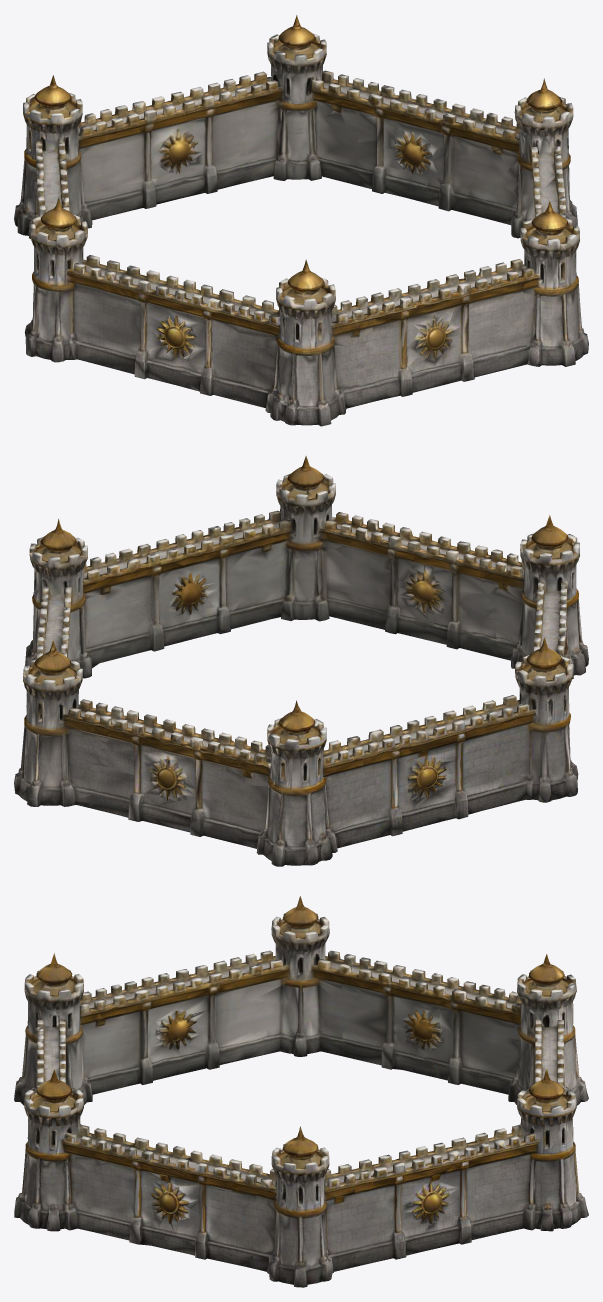
Rendered from camps_city-wall.glb.
3 views of the same model, one above another, from view 1: azimuth 30°, elevation 25°; view 2: azimuth 150°, elevation 25°; view 3: azimuth 270°, elevation 25° (orthographic). The views are drawn at different scales.
Parts seen in each view (by area): view 1: tripo_node_04b2853c-5985-4d6e-8ad3-ffb8a0f0aa5d; view 2: tripo_node_04b2853c-5985-4d6e-8ad3-ffb8a0f0aa5d; view 3: tripo_node_04b2853c-5985-4d6e-8ad3-ffb8a0f0aa5d.
Part boxes in pixels (x1,y1,x2,y2): tripo_node_04b2853c-5985-4d6e-8ad3-ffb8a0f0aa5d: (14,15,588,426); tripo_node_04b2853c-5985-4d6e-8ad3-ffb8a0f0aa5d: (14,456,588,866); tripo_node_04b2853c-5985-4d6e-8ad3-ffb8a0f0aa5d: (14,896,588,1287).
Size of the model in its own units: 0.9805 by 0.259 by 0.9139.
1 material, 1 textured.
